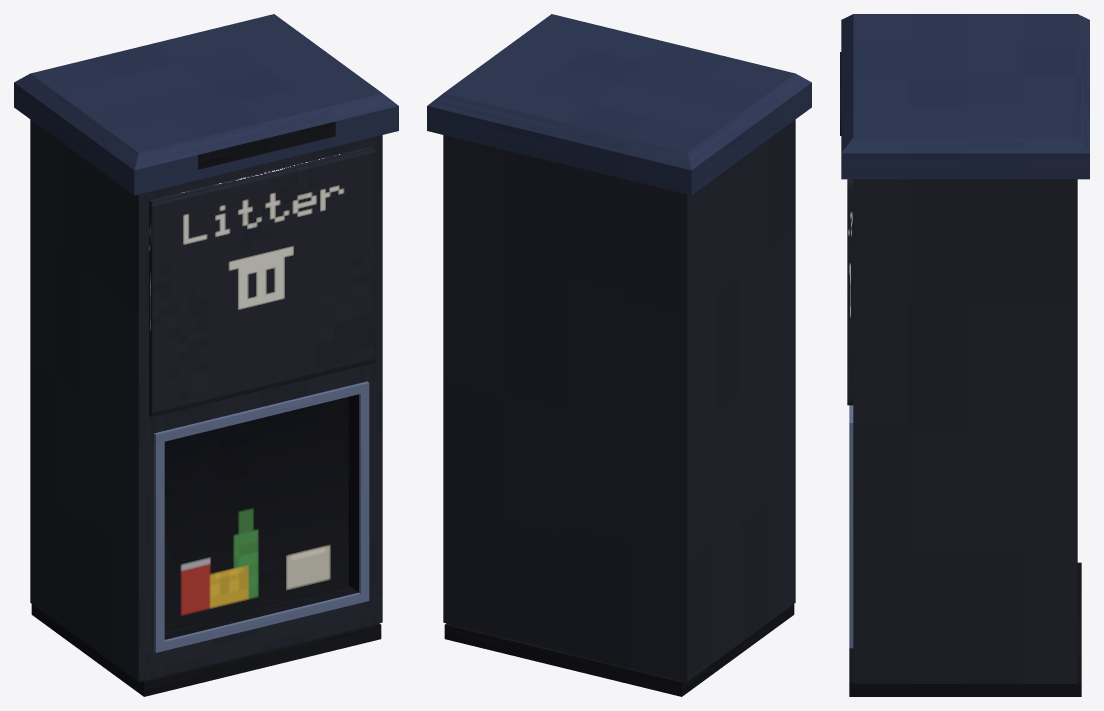
Rendered from SM_Bin_00.fbx.
The picture shows the model from 3 angles, left to right: view 1: azimuth 30°, elevation 25°; view 2: azimuth 150°, elevation 25°; view 3: azimuth 270°, elevation 25°; orthographic projection. The views are drawn at different scales.
Parts seen in each view (by area): view 1: SM_Bin_00; view 2: SM_Bin_00; view 3: SM_Bin_00.
Part boxes in pixels (x1,y1,x2,y2): SM_Bin_00: (14, 14, 398, 696); SM_Bin_00: (427, 14, 811, 696); SM_Bin_00: (840, 14, 1089, 696).
Size of the model in its own units: 0.7743 by 1.52 by 0.613.
Materials: 2 (2 with a texture image).
